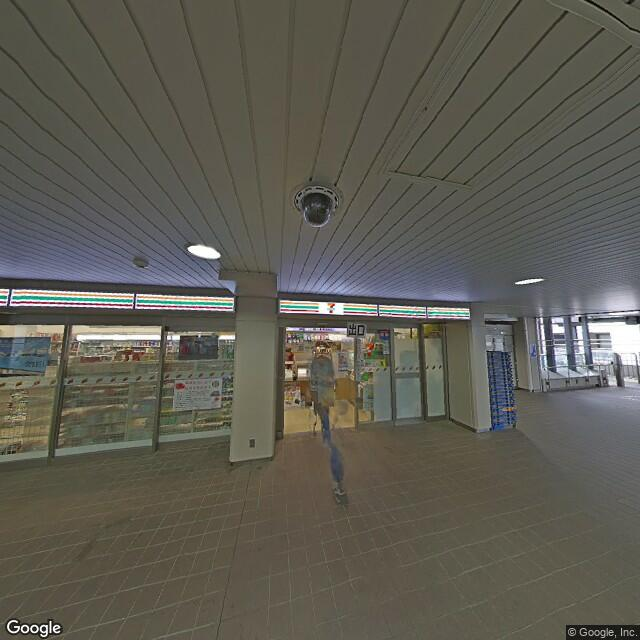7-eleven: (1, 279, 471, 324)
